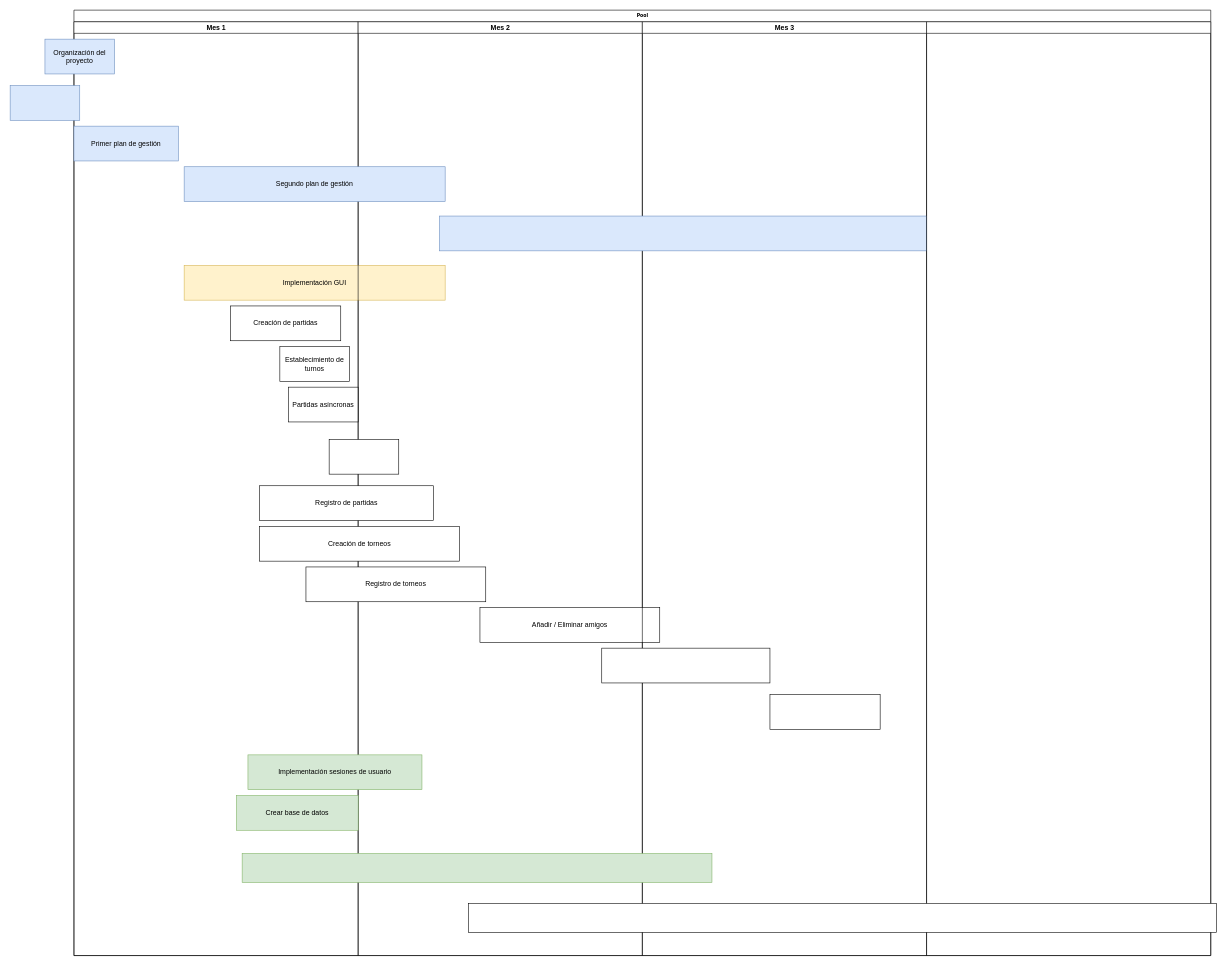
Image size: 1227x966. Some labels were removed from this diagram. Each missing label, with the centre of its shape:
Establecer niveles y puntos de experiencia: the point at 824,711
Invitar partidas: the point at 685,665
Logica de juego: the point at 364,456
Mes 4: the point at 1068,488
Montar backend con Django: the point at 477,867
Propuesta tecnica y economica: the point at 45,102
Testing: the point at 842,917
Ultimo plan de gestión: the point at 683,233
